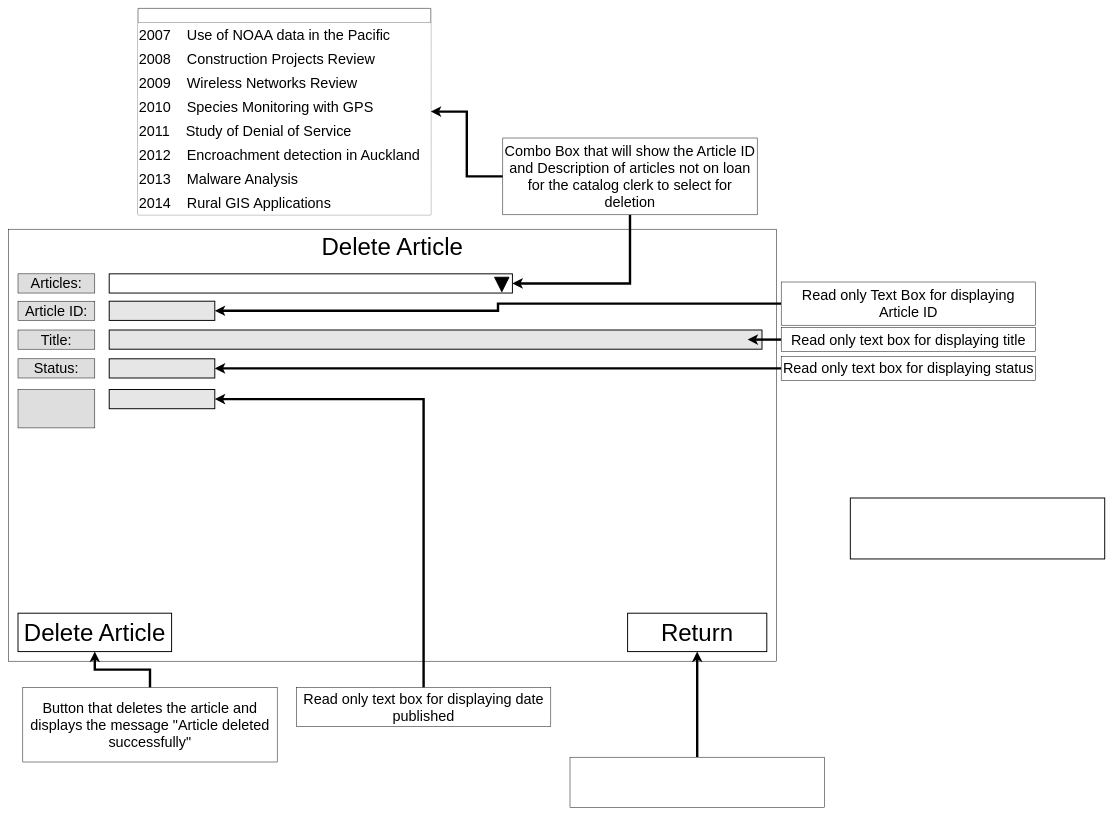
Image size: 1114x816. Some labels were removed from this diagram. The centre of each missing label's shape, as x and y in pixels:
"Button that returns the user to the menu" belongs at (697,782).
"Date Published:" belongs at (56,408).
"Text in black will be labels or captions" belongs at (977,528).
